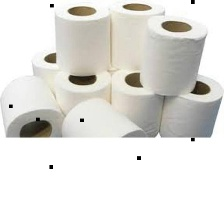tissue: (135, 11, 209, 97), (51, 0, 113, 78), (109, 0, 168, 74), (158, 71, 224, 137), (0, 73, 68, 137), (110, 66, 166, 137), (60, 94, 150, 137), (56, 64, 113, 117), (29, 45, 74, 81)
